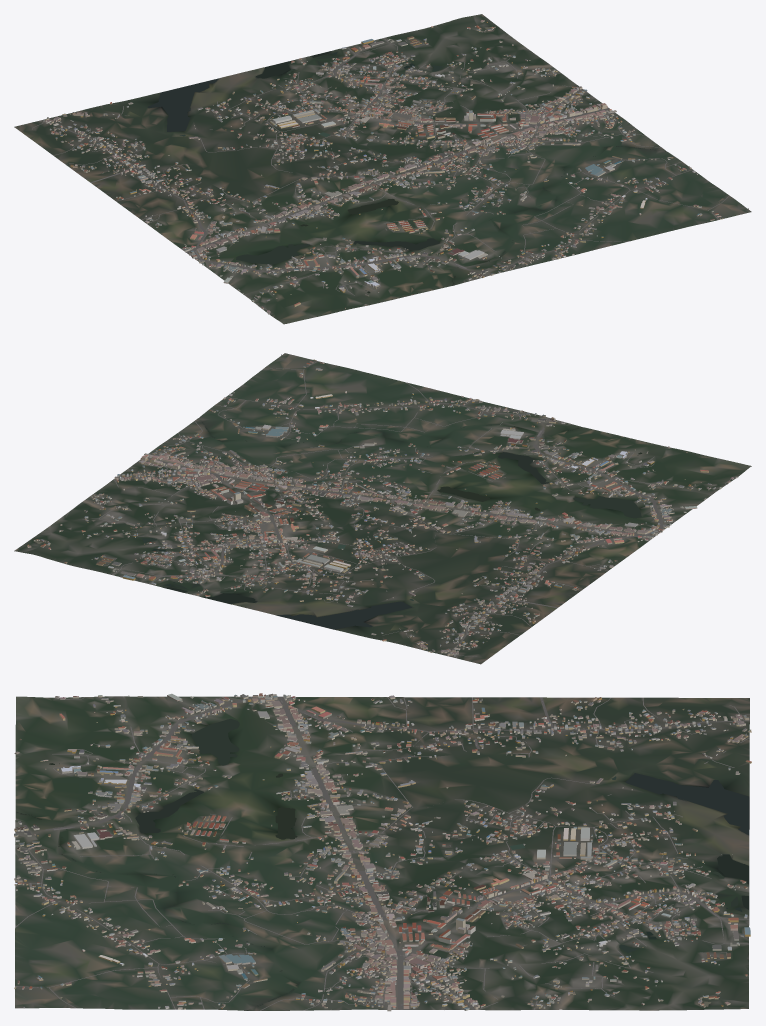
The picture shows the model from 3 angles, top to bottom: view 1: azimuth 30°, elevation 25°; view 2: azimuth 150°, elevation 25°; view 3: azimuth 270°, elevation 25°; orthographic projection. The views are drawn at different scales.
Parts seen in each view (by area): view 1: ground, buildings, roads, water; view 2: ground, buildings, roads, water; view 3: ground, buildings, roads, water.
Part boxes in pixels (x1=…): ground: x1=14, y1=14, x2=751, y2=324; buildings: x1=42, y1=20, x2=748, y2=314; roads: x1=32, y1=38, x2=729, y2=309; water: x1=147, y1=26, x2=665, y2=293; ground: x1=14, y1=353, x2=751, y2=664; buildings: x1=27, y1=354, x2=738, y2=656; roads: x1=83, y1=361, x2=730, y2=658; water: x1=33, y1=417, x2=642, y2=629; ground: x1=15, y1=696, x2=749, y2=1010; buildings: x1=14, y1=693, x2=751, y2=1011; roads: x1=15, y1=696, x2=749, y2=1010; water: x1=16, y1=718, x2=749, y2=1010.
Size of the model in its own units: 2830 by 62.18 by 2819.
